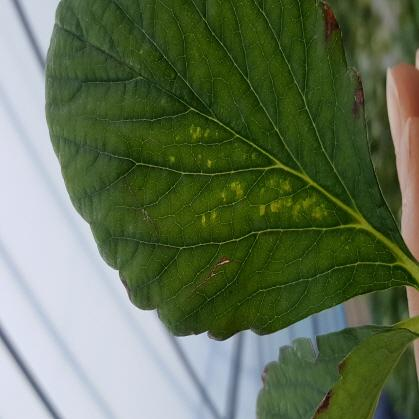Angular Leafspot: (156, 95, 344, 232)
